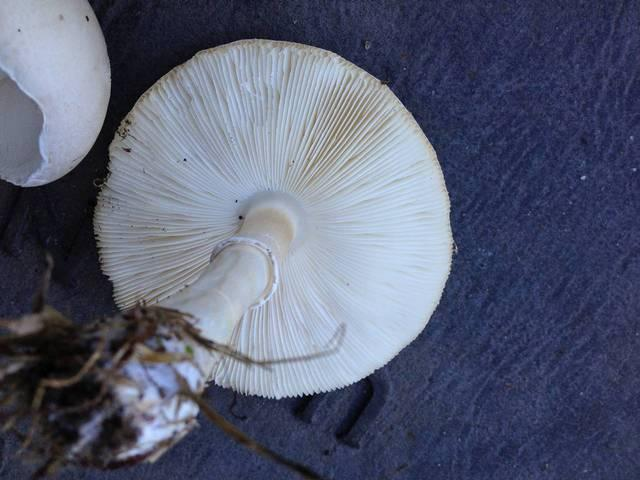poisonous_mushroom: (91, 36, 458, 400), (0, 0, 111, 188)
